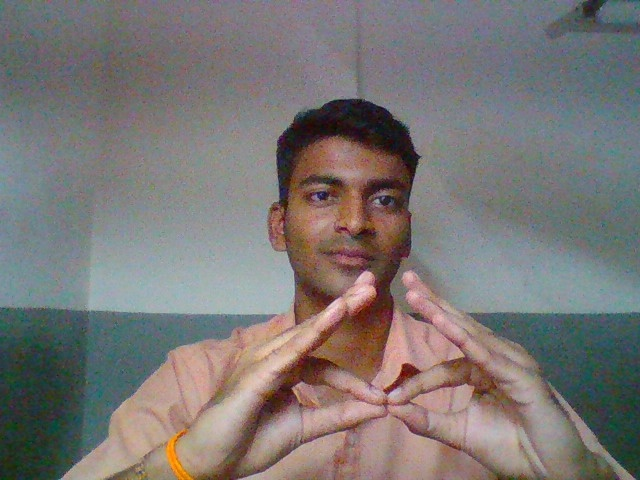B: (180, 266, 604, 480)
